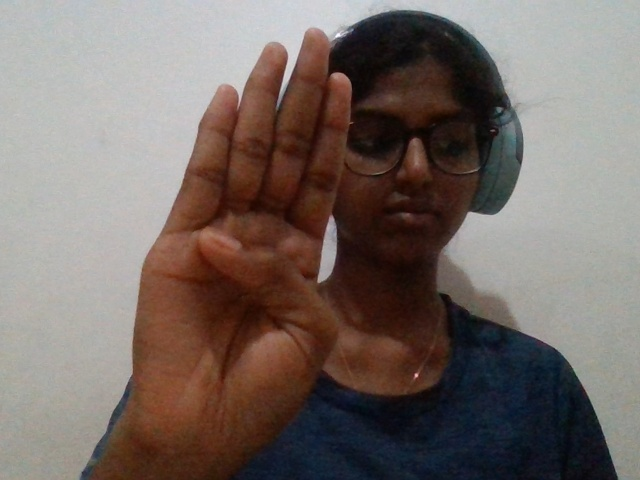B: (97, 7, 358, 473)
